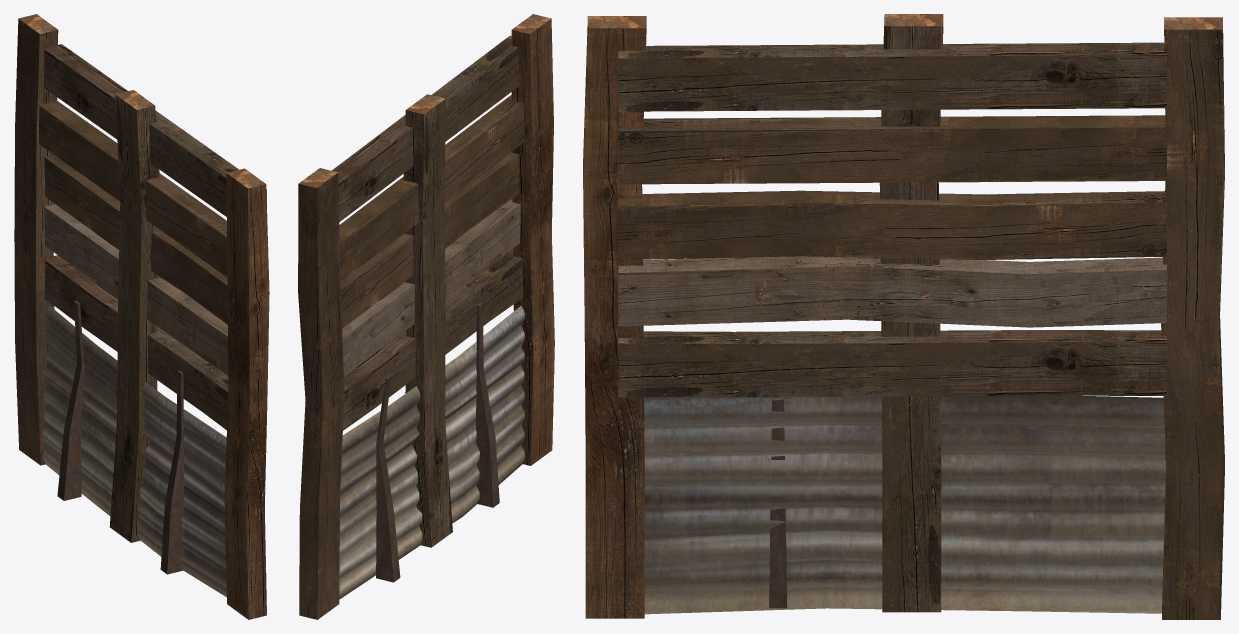
The model's file is trench-decor1.fbx.
3 views of the same model, side by side, from view 1: azimuth 30°, elevation 25°; view 2: azimuth 150°, elevation 25°; view 3: azimuth 270°, elevation 25° (orthographic). The views are drawn at different scales.
Visible parts, largest first — view 1: Object002, Box004, Box056, Box046, Box065, Box064, Box048, Box054, Box053, Box018, Box068; view 2: Object002, Box046, Box004, Box056, Box065, Box064, Box048, Box054, Box053, Box068, Box018; view 3: Object002, Box064, Box053, Box048, Box065, Box054, Box046, Box004, Box056, Box018.
Boxes of the visible parts, x1,y1,x2,y2 form: Object002: (43, 305, 226, 597); Box004: (224, 168, 269, 619); Box056: (109, 90, 159, 542); Box046: (14, 14, 58, 465); Box065: (39, 101, 227, 276); Box064: (44, 44, 266, 216); Box048: (44, 255, 228, 430); Box054: (44, 204, 228, 375); Box053: (44, 154, 227, 324); Box018: (160, 370, 184, 574); Box068: (57, 300, 84, 500); Object002: (339, 305, 524, 599); Box046: (298, 168, 344, 619); Box004: (511, 14, 554, 465); Box056: (403, 94, 452, 547); Box065: (339, 95, 524, 281); Box064: (332, 35, 519, 221); Box048: (343, 249, 522, 430); Box054: (342, 199, 520, 376); Box053: (340, 152, 519, 328); Box068: (376, 376, 400, 582); Box018: (476, 303, 499, 507); Object002: (644, 395, 1165, 614); Box064: (618, 42, 1166, 111); Box053: (618, 190, 1166, 260); Box048: (618, 330, 1166, 397); Box065: (618, 115, 1166, 184); Box054: (618, 256, 1166, 327); Box046: (1161, 17, 1224, 619); Box004: (583, 16, 646, 618); Box056: (879, 14, 943, 612); Box018: (769, 399, 787, 608).
Bounding box in the file's own units: 42.75 × 373 × 366.
